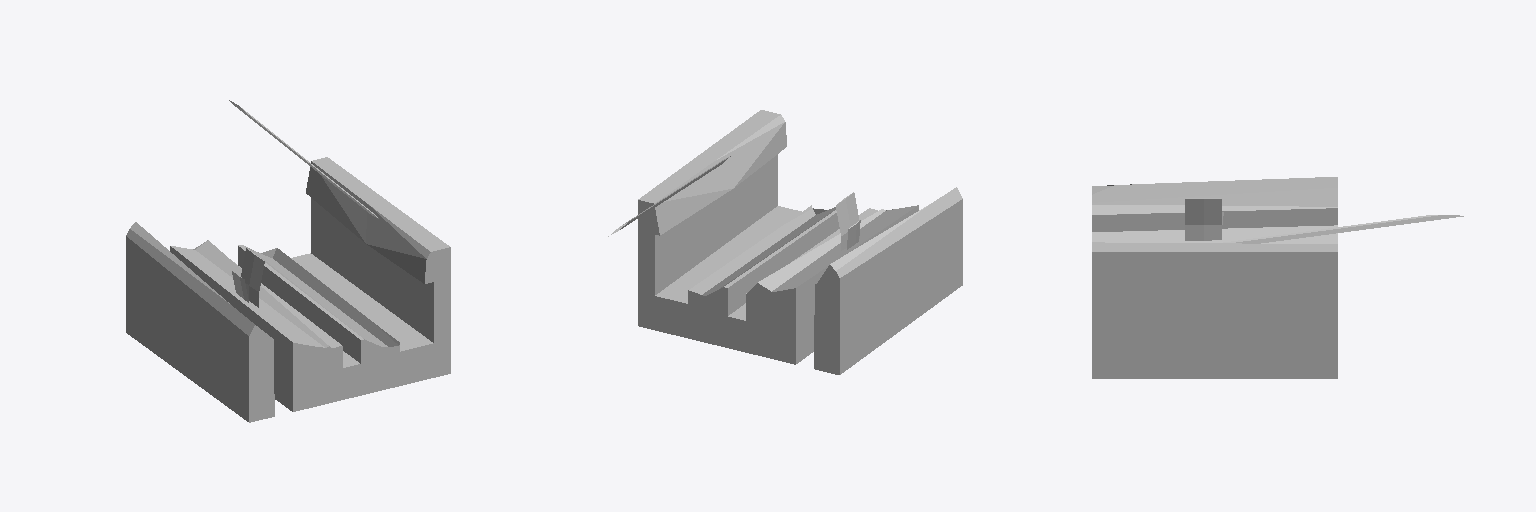
File: StraightWall2.obj
The picture shows the model from 3 angles: view 1: azimuth 30°, elevation 25°; view 2: azimuth 150°, elevation 25°; view 3: azimuth 270°, elevation 25°; orthographic projection.
Visible parts, largest first — view 1: polySurface778; view 2: polySurface778; view 3: polySurface778.
Part boxes in pixels (bbox=[...]): polySurface778: bbox=[126, 100, 450, 422]; polySurface778: bbox=[608, 110, 962, 374]; polySurface778: bbox=[1092, 177, 1463, 378].
Bounding box in the file's own units: 0.9363 × 0.6532 × 1.51.